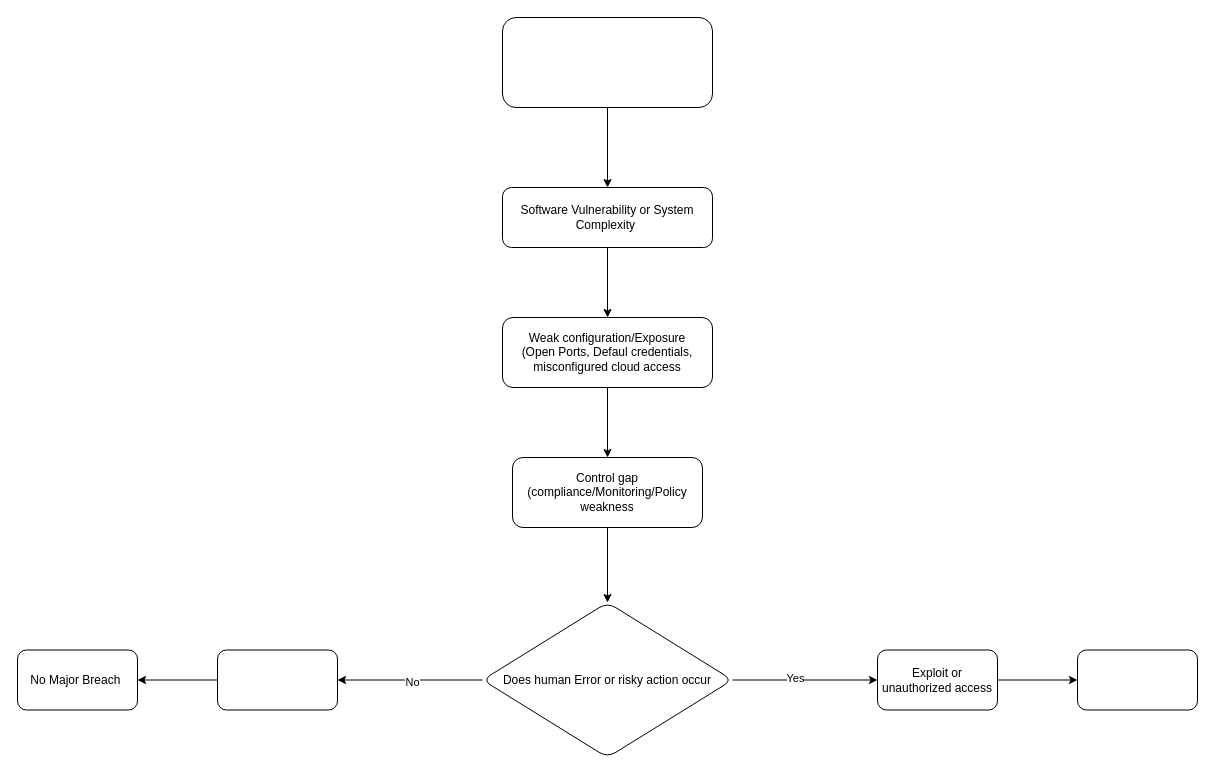
Image size: 1215x775. Some labels were removed from this diagram. Here are the shapes that lost their labels. From the top down, the centre of each, then its label:
At [607,62]: "Start: Security Environment".
At [277,679]: "Controls Detect and Contain Risk".
At [1137,679]: "End: Major Cybersecurity Breach".
